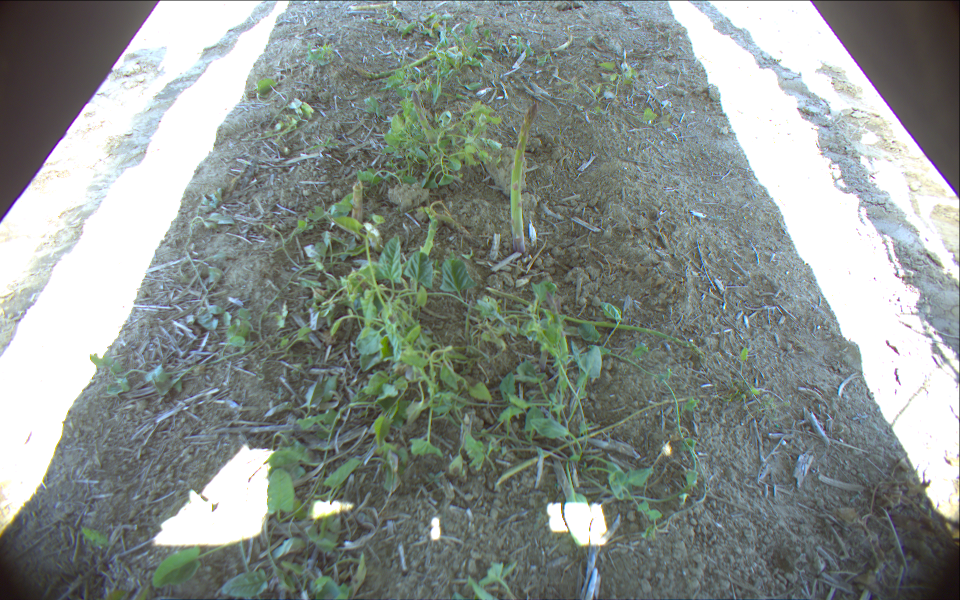aspa: (508, 100, 540, 254)
